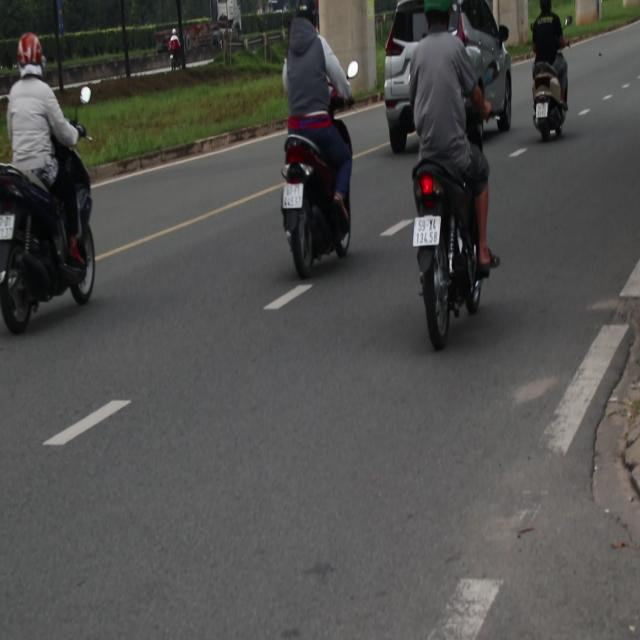car: (380, 0, 513, 152)
motorbike: (397, 163, 514, 360), (0, 140, 105, 346), (279, 140, 353, 280), (531, 62, 568, 141), (162, 24, 190, 76)
